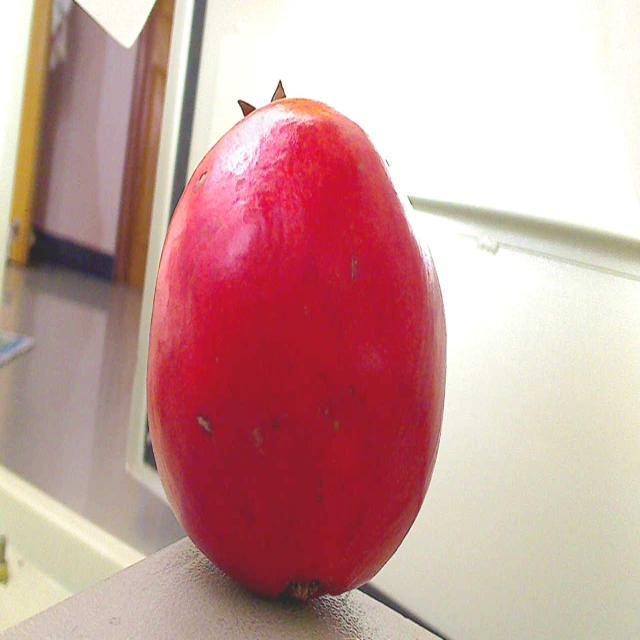pomegranate: (138, 73, 451, 619)
